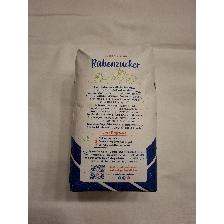Zucker: (68, 42, 160, 194)
